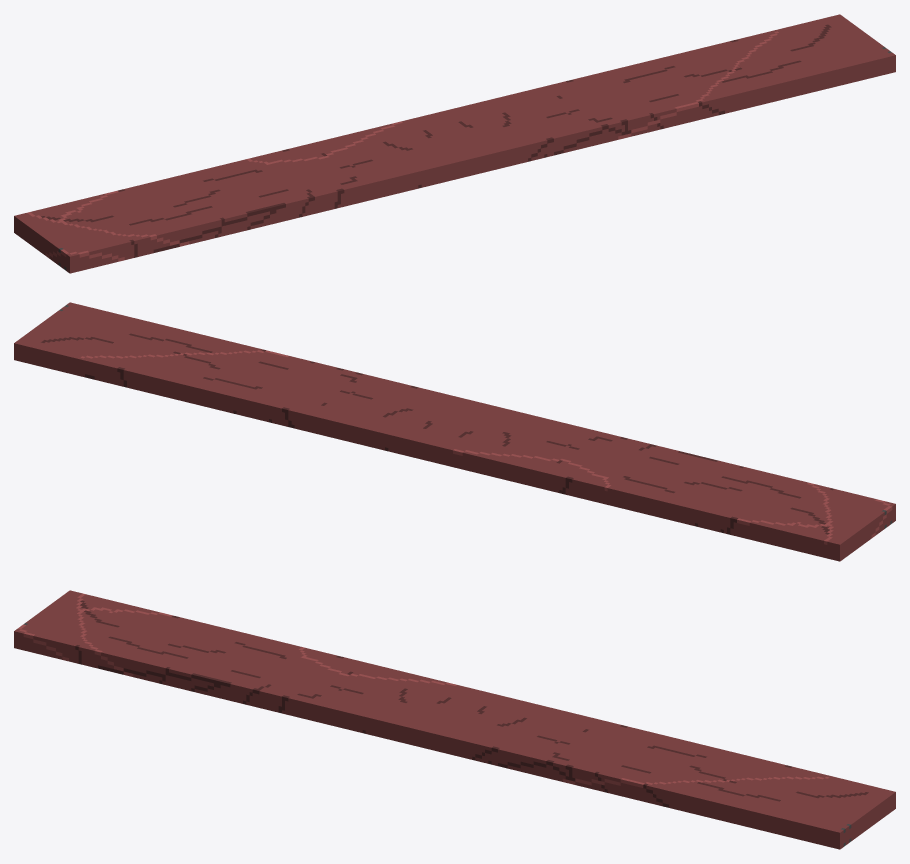
File: stadium-large-complex-18.obj
The picture shows the model from 3 angles, top to bottom: view 1: azimuth 30°, elevation 25°; view 2: azimuth 150°, elevation 25°; view 3: azimuth 330°, elevation 25°; orthographic projection.
Size of the model in its own units: 25.6 by 0.5 by 3.
Materials: 1 (1 with a texture image).
